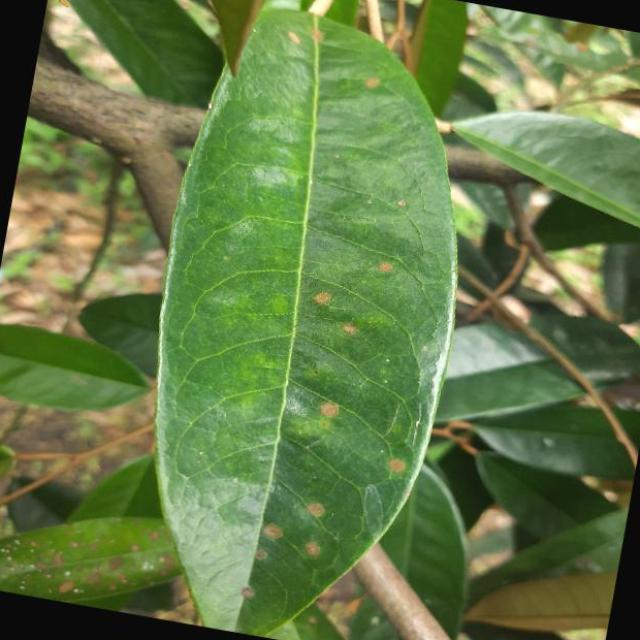Algal Leaf Spot: (96, 0, 514, 640)
